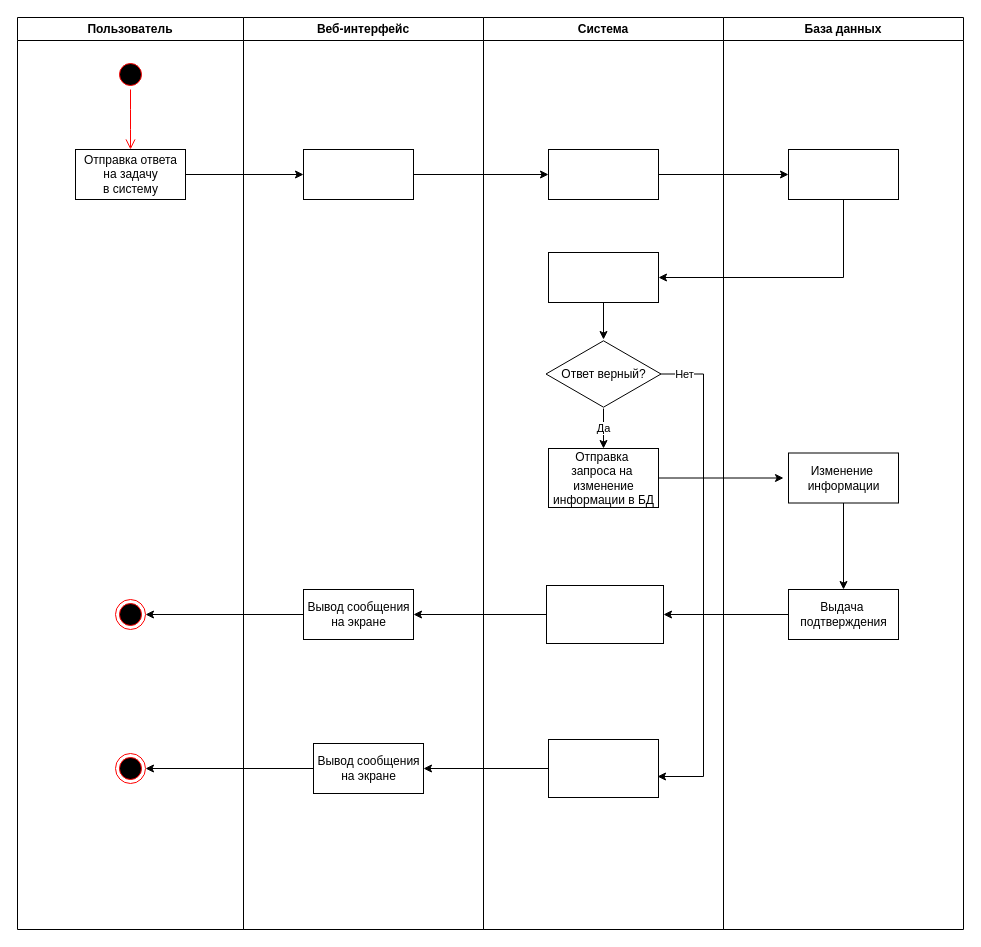
The diagram is 981 pixels wide and 947 high, and some of its shapes have lost their labels. The shapes that lost their labels are listed below. From the top down, each one's centre as x and y in pixels, then its label:
At point (358, 174): "Отправка запроса на выдачу результата на сервер".
At point (603, 174): "Отправка запроса правильного ответа в базу данных".
At point (843, 174): "Выдача правильного ответа".
At point (603, 277): "Сверка введенного и правильного ответов".
At point (605, 614): "Отправка сообщения о правильности ответа участнику".
At point (603, 768): "Отправка сообщения об ошибке участнику".
